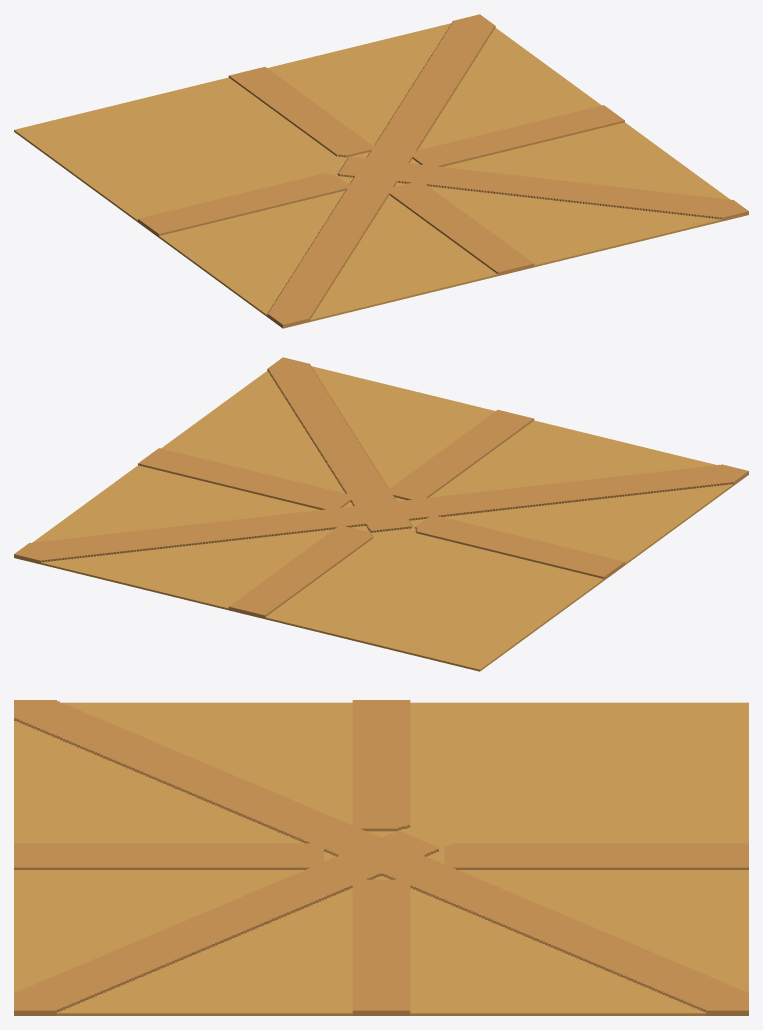
Rendered from shadow-8.obj.
3 views of the same model, one above another, from view 1: azimuth 30°, elevation 25°; view 2: azimuth 150°, elevation 25°; view 3: azimuth 270°, elevation 25° (orthographic). The views are drawn at different scales.
Size of the model in its own units: 25.6 by 0.2 by 25.6.
Materials: 1 (1 with a texture image).
